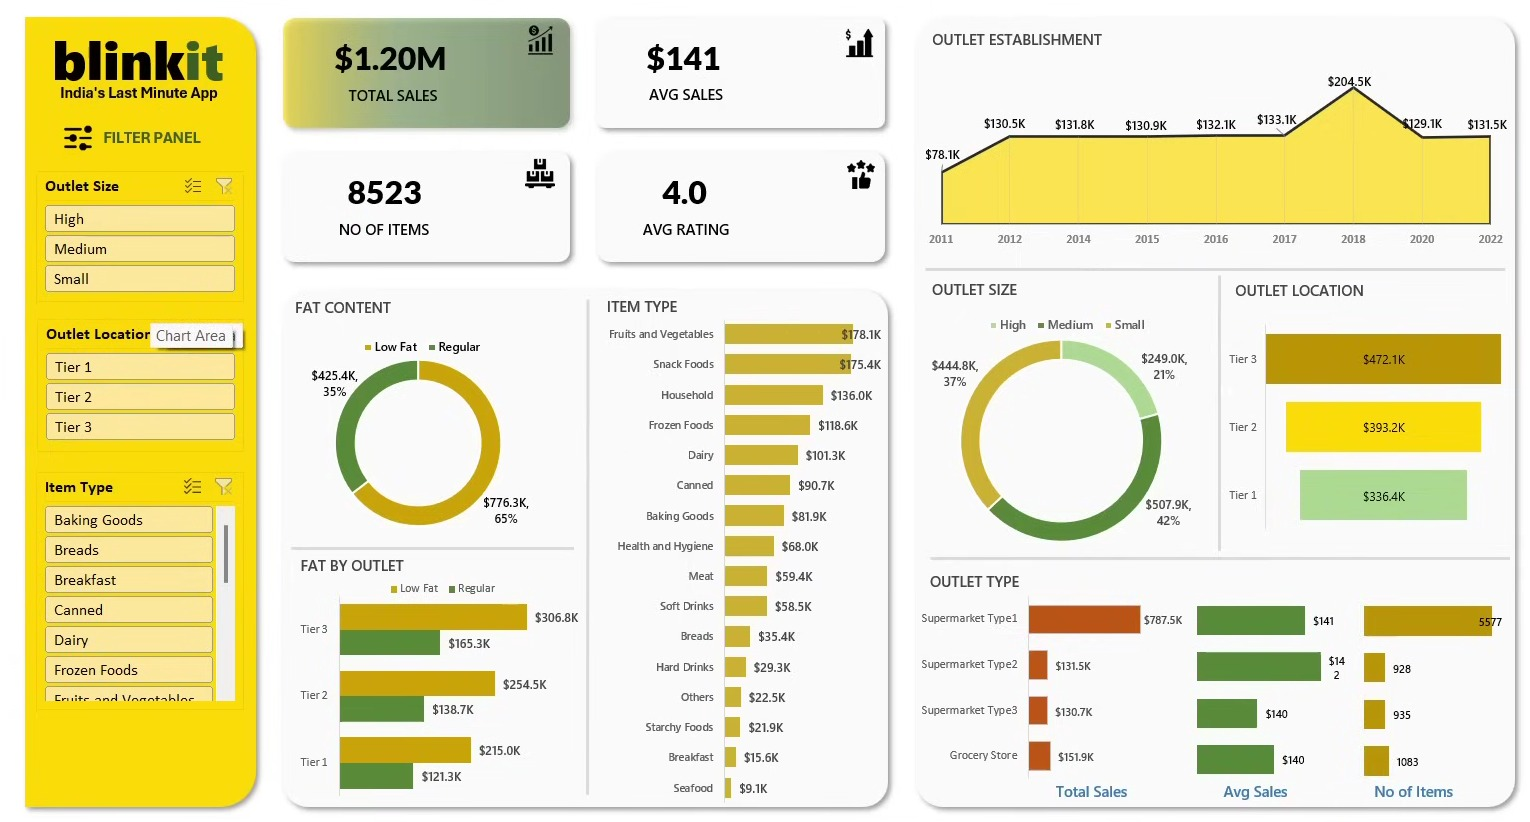

This screenshot's page, from the dashboard's own definition file:
{"tool":"powerbi","page":{"name":"Page 1","canvas":[1400,850],"ordinal":0},"visuals":[{"type":"shape","box":[13.5,11.5,769.2,138.5],"z":0},{"type":"textbox","box":[61.1,36.7,193.3,76.1],"z":1000},{"type":"textbox","box":[61.1,88.9,179.4,31.7],"z":2000},{"type":"cardVisual","fields":{"Data":["BlinkIT Grocery Data.Total Sales","BlinkIT Grocery Data.Average Sales","BlinkIT Grocery Data.No of Items","BlinkIT Grocery Data.Avg Rating"]},"box":[14.1,146.9,287.5,695.3],"z":3000},{"type":"shape","box":[782.7,15.4,598.1,817.3],"z":4000},{"type":"shape","box":[301.9,153.8,480.8,678.8],"z":5000},{"type":"donutChart","title":"FAT CONTENT","fields":{"Y":["BlinkIT Grocery Data.Total Sales"],"Category":["BlinkIT Grocery Data.Item Fat Content"]},"box":[325.3,224,216.7,187.3],"z":6000},{"type":"slicer","fields":{"Values":["Metrics.Metrics"]},"box":[313.6,168.6,456.4,48.6],"z":7000},{"type":"cardVisual","fields":{"Data":["BlinkIT Grocery Data.Total Sales"]},"box":[375.8,296.7,114.2,75.8],"z":8000},{"type":"clusteredBarChart","title":"FAT BY OUTLET","fields":{"Y":["BlinkIT Grocery Data.Total Sales"],"Series":["BlinkIT Grocery Data.Item Fat Content"],"Category":["BlinkIT Grocery Data.Outlet Location Type"]},"box":[542.9,224.3,217.1,188.6],"z":9000},{"type":"shape","box":[519.2,224.2,45,182.5],"z":10000},{"type":"shape","box":[325.7,402.9,428.6,40],"z":11000},{"type":"barChart","title":"ITEM TYPE","fields":{"Y":["BlinkIT Grocery Data.Total Sales"],"Category":["BlinkIT Grocery Data.Item Type"]},"box":[325.7,425.7,428.6,395.7],"z":12000},{"type":"lineChart","title":"OUTLET ESTABLISHMENT","fields":{"Category":["BlinkIT Grocery Data.Outlet Establishment Year"],"Y":["BlinkIT Grocery Data.Total Sales"]},"box":[808.6,50,548.6,234.3],"z":13000},{"type":"shape","box":[808.6,284.3,534.3,24.3],"z":14000},{"type":"donutChart","title":"OUTLET SIZE","fields":{"Y":["BlinkIT Grocery Data.Total Sales"],"Category":["BlinkIT Grocery Data.Outlet Size"]},"box":[808.6,328.6,267.1,234.3],"z":15000},{"type":"shape","box":[1052.9,318.6,45.7,228.6],"z":16000},{"type":"funnel","title":"OUTLET LOCATION","fields":{"Y":["Sum(BlinkIT Grocery Data.Sales)"],"Category":["BlinkIT Grocery Data.Outlet Location Type"]},"box":[1082.9,328.6,260,210],"z":17000},{"type":"shape","box":[808.6,562.9,534.3,24.3],"z":18000},{"type":"pivotTable","title":"OUTLET TYPE","fields":{"Rows":["BlinkIT Grocery Data.Outlet Type"],"Values":["BlinkIT Grocery Data.Total Sales","BlinkIT Grocery Data.No of Items","BlinkIT Grocery Data.Average Sales","BlinkIT Grocery Data.Avg Rating","Avg(BlinkIT Grocery Data.Item Visibility)"]},"box":[808.6,600,558.6,210],"z":19000},{"type":"slicer","fields":{"Values":["BlinkIT Grocery Data.Outlet Location Type"]},"box":[597,50,158,63],"z":20000},{"type":"slicer","fields":{"Values":["BlinkIT Grocery Data.Item Type"]},"box":[269.2,50,158.5,63.1],"z":21000},{"type":"slicer","fields":{"Values":["BlinkIT Grocery Data.Outlet Size"]},"box":[433.1,50,158.5,63.1],"z":22000}]}

Visuals, with their boxes on the page's 1400x850 design canvas (x1, y1, x2, y2). These are canvas units, not pixel positions in the 1530x822 screenshot, which may show the page scaled, cropped or inside an application window:
shape: <region>14, 12, 783, 150</region>
textbox: <region>61, 37, 254, 113</region>
textbox: <region>61, 89, 240, 121</region>
cardVisual - BlinkIT Grocery Data.Total Sales x BlinkIT Grocery Data.Average Sales: <region>14, 147, 302, 842</region>
shape: <region>783, 15, 1381, 833</region>
shape: <region>302, 154, 783, 833</region>
"FAT CONTENT" donutChart: <region>325, 224, 542, 411</region>
slicer - Metrics.Metrics: <region>314, 169, 770, 217</region>
cardVisual - BlinkIT Grocery Data.Total Sales: <region>376, 297, 490, 372</region>
"FAT BY OUTLET" clusteredBarChart: <region>543, 224, 760, 413</region>
shape: <region>519, 224, 564, 407</region>
shape: <region>326, 403, 754, 443</region>
"ITEM TYPE" barChart: <region>326, 426, 754, 821</region>
"OUTLET ESTABLISHMENT" lineChart: <region>809, 50, 1357, 284</region>
shape: <region>809, 284, 1343, 309</region>
"OUTLET SIZE" donutChart: <region>809, 329, 1076, 563</region>
shape: <region>1053, 319, 1099, 547</region>
"OUTLET LOCATION" funnel: <region>1083, 329, 1343, 539</region>
shape: <region>809, 563, 1343, 587</region>
"OUTLET TYPE" pivotTable: <region>809, 600, 1367, 810</region>
slicer - BlinkIT Grocery Data.Outlet Location Type: <region>597, 50, 755, 113</region>
slicer - BlinkIT Grocery Data.Item Type: <region>269, 50, 428, 113</region>
slicer - BlinkIT Grocery Data.Outlet Size: <region>433, 50, 592, 113</region>
